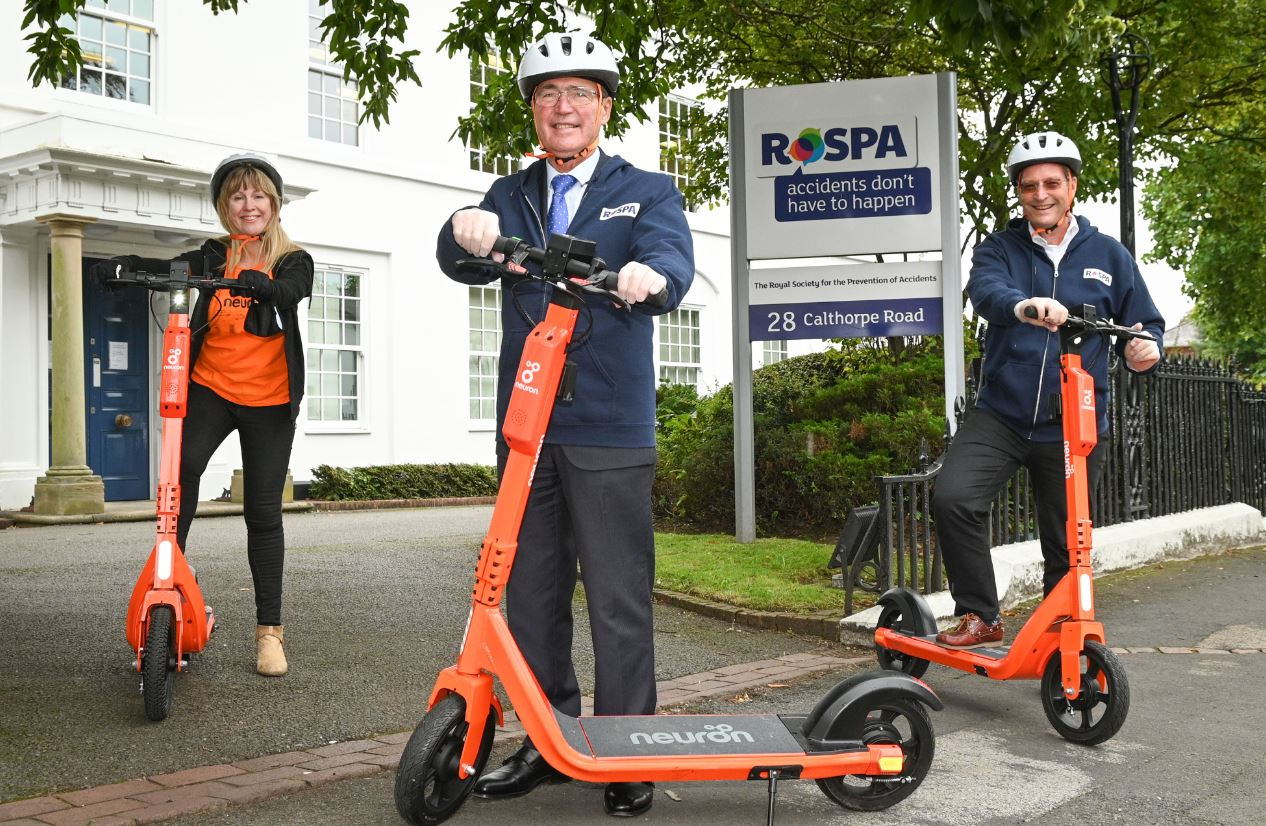scooter: (390, 222, 944, 826), (874, 283, 1156, 754), (112, 265, 283, 720)
with helmet: (512, 27, 619, 170), (1003, 129, 1090, 242)
